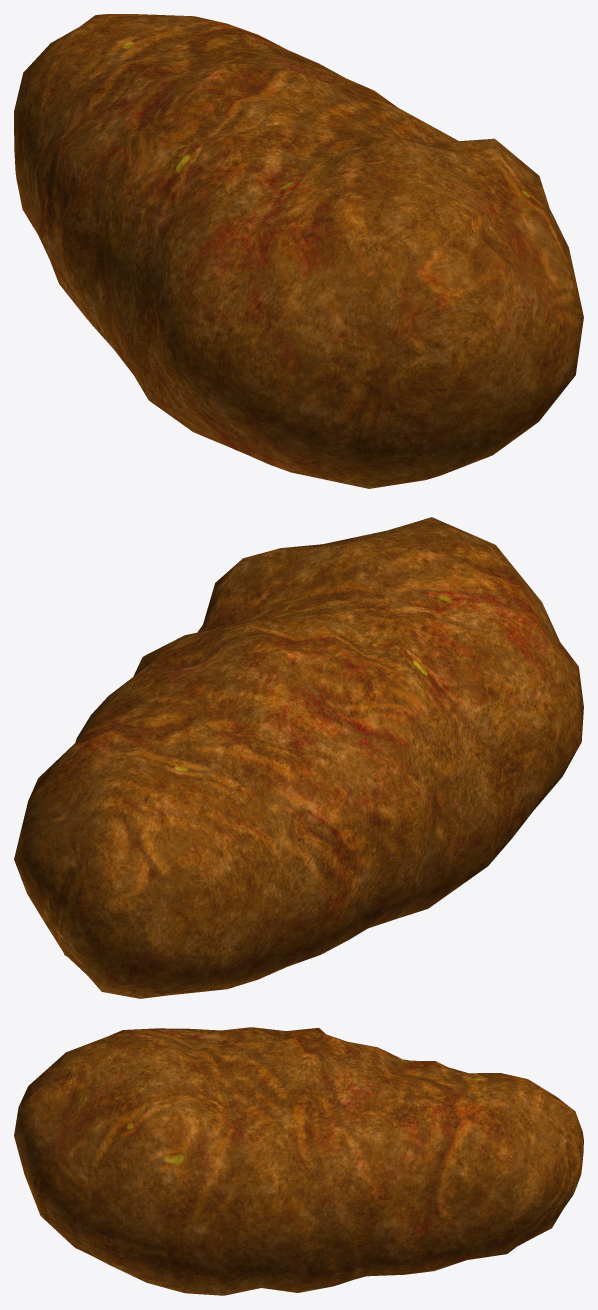
File: poopy.glb
3 views of the same model, one above another, from view 1: azimuth 30°, elevation 25°; view 2: azimuth 150°, elevation 25°; view 3: azimuth 270°, elevation 25° (orthographic). The views are drawn at different scales.
Parts seen in each view (by area): view 1: Object_2; view 2: Object_2; view 3: Object_2.
Part boxes in pixels (left/top/right/bottom): Object_2: left=14, top=14, right=583, bottom=488; Object_2: left=14, top=517, right=583, bottom=998; Object_2: left=14, top=1027, right=583, bottom=1295.
Size of the model in its own units: 1.89 by 1.58 by 3.47.
Materials: 1 (1 with a texture image).
